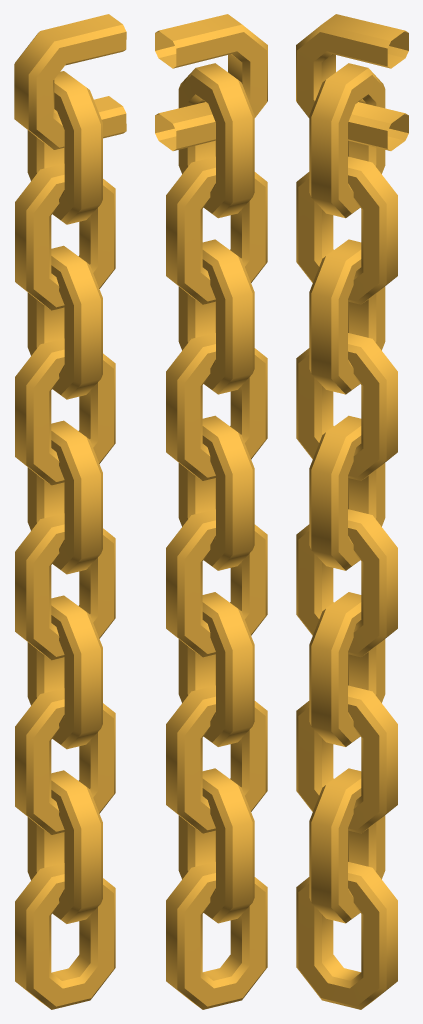
The model's file is Chain_1_2.obj.
3 renders of one model, left to right at view 1: azimuth 30°, elevation 25°; view 2: azimuth 210°, elevation 25°; view 3: azimuth 330°, elevation 25°, orthographic.
Visible parts, largest first — view 1: Chain_1_2; view 2: Chain_1_2; view 3: Chain_1_2.
Boxes of the visible parts, bbox=[...] form: Chain_1_2: bbox=[14, 14, 126, 1009]; Chain_1_2: bbox=[155, 14, 267, 1009]; Chain_1_2: bbox=[296, 14, 408, 1009].
Size of the model in its own units: 0.1149 by 1.12 by 0.1077.
